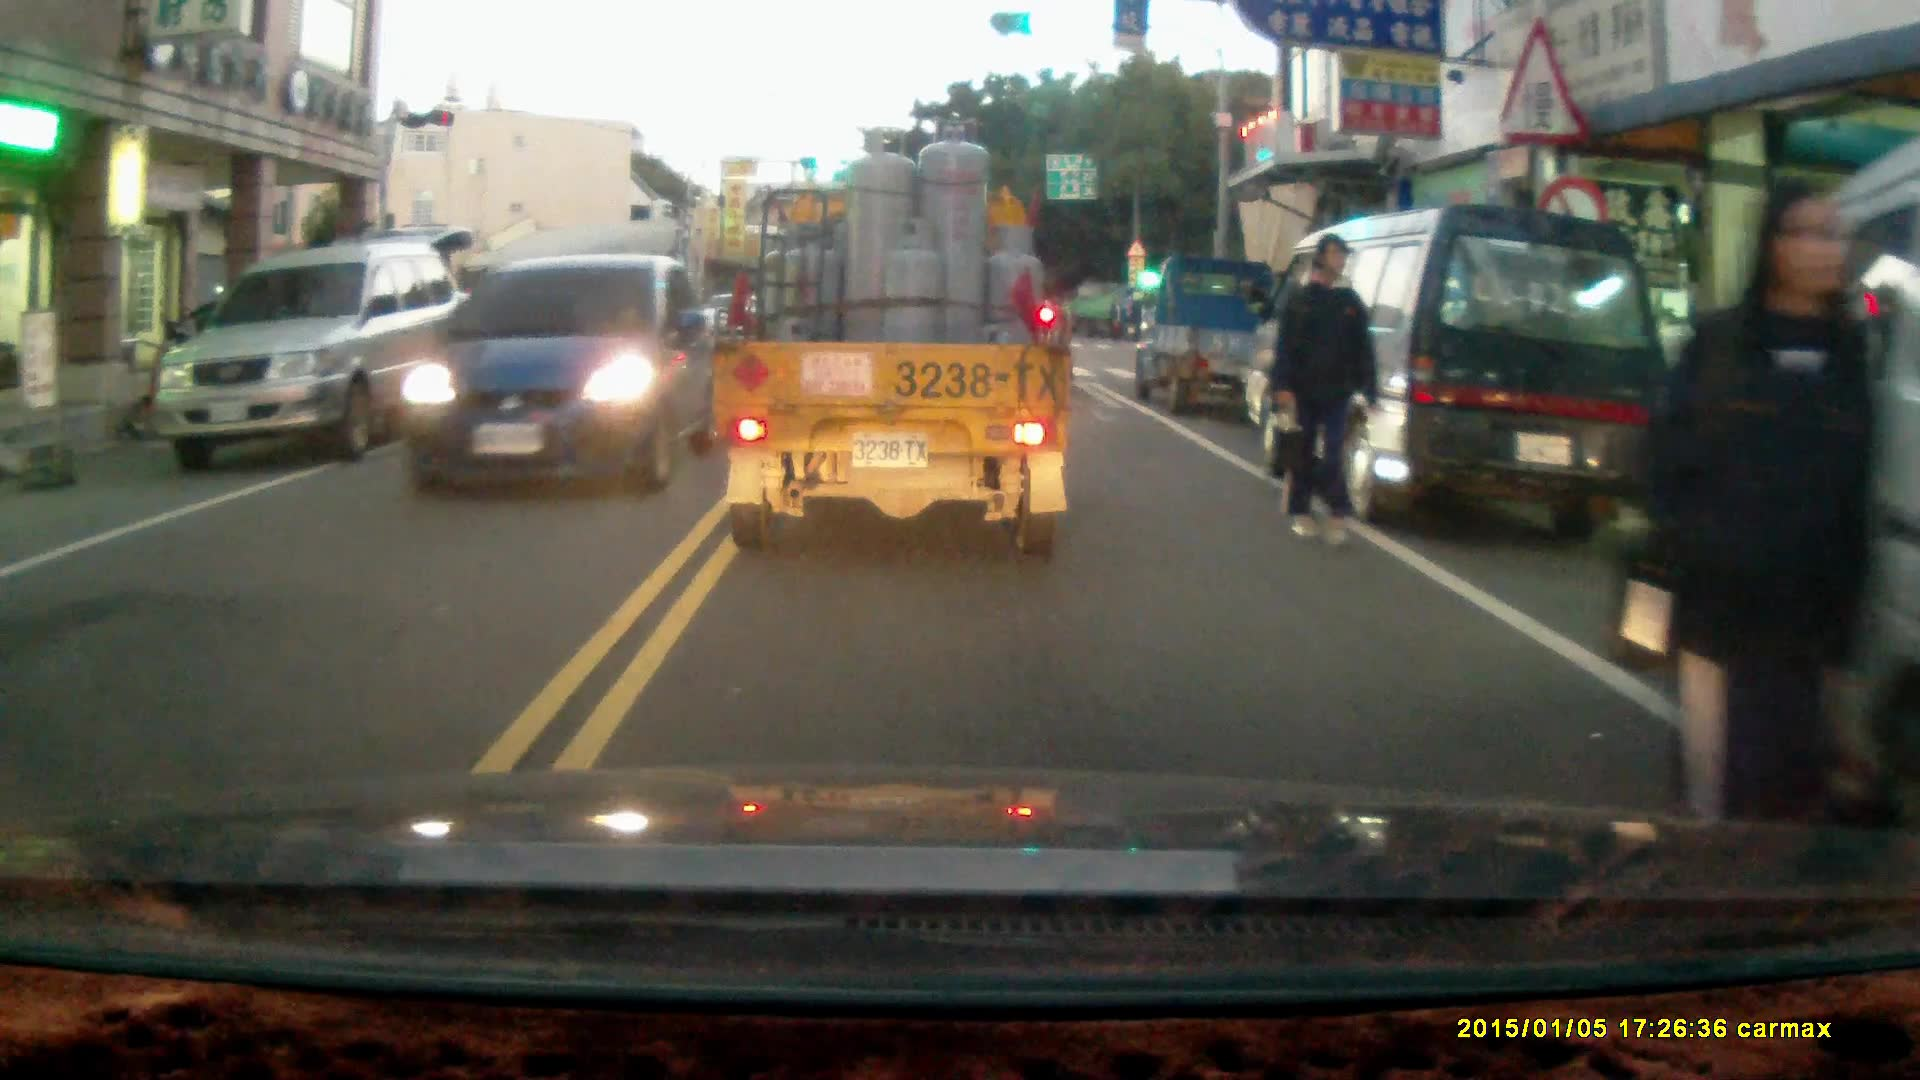pedestrian: (1648, 177, 1862, 890), (1272, 234, 1383, 552)
vehicle: (712, 119, 1075, 546), (1248, 200, 1665, 545), (401, 253, 734, 493), (157, 242, 473, 470), (376, 290, 572, 418), (1124, 247, 1269, 407)
